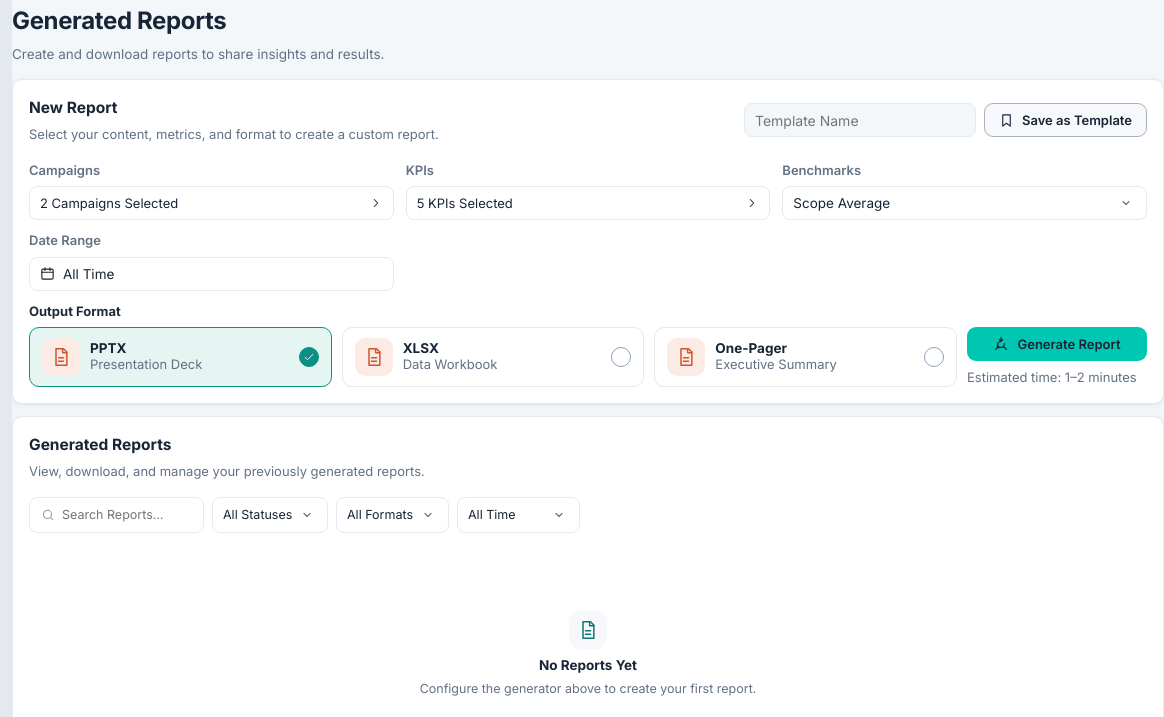
ReportsPage › generates a PPTX with selected campaigns/KPIs and adds history
Check: the text "2 Campaigns Selected" is shown, box [40, 195, 178, 211]
Step 1. Click the button "Generate Report" → (1057, 344), box [967, 327, 1147, 361]
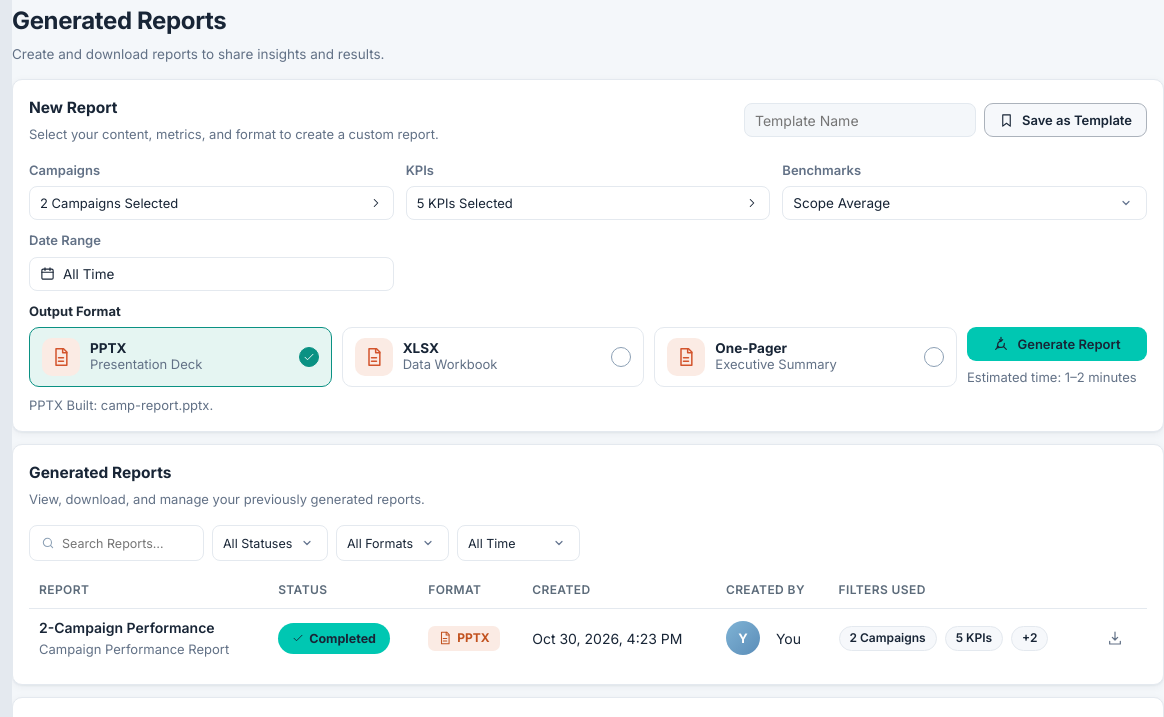
Check: the text "PPTX Built: camp-report.pptx." is shown, box [29, 397, 213, 413]
Check: the link named "Download 2-Campaign Performance" is shown, box [1107, 630, 1123, 646]
